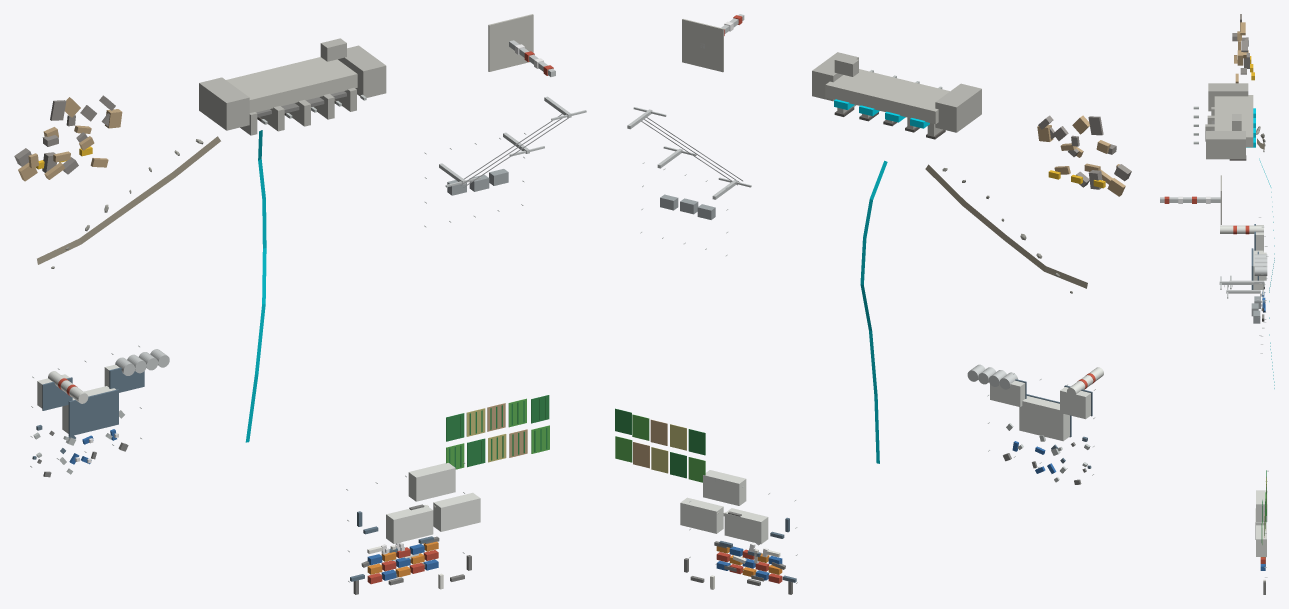
File: compact_zones.glb
3 views of the same model, side by side, from view 1: azimuth 30°, elevation 25°; view 2: azimuth 150°, elevation 25°; view 3: azimuth 270°, elevation 25° (orthographic). The views are drawn at different scales.
Visible parts, largest first — view 1: SM_Dam_Main_Wall, POLISH_DAM_SideSupport_L, SM_TEL_Platform, SM_IND_Roof_0, POLISH_DAM_SideSupport_R, Ref_Landslide_Path, SM_LOG_Warehouse_1, SM_LOG_Warehouse_2, SM_LOG_Warehouse_0, Ref_Dam_Discharge_Centerline; view 2: SM_Dam_Main_Wall, SM_TEL_Platform, SM_IND_Building_0, POLISH_DAM_SideSupport_L, SM_LOG_Warehouse_1, SM_LOG_Warehouse_0, SM_LOG_Warehouse_2, Ref_Dam_Discharge_Centerline, Ref_Landslide_Path, POLISH_DAM_SideSupport_R, SM_IND_Building_1, SM_IND_Building_2; view 3: SM_Dam_Main_Wall, POLISH_DAM_SideSupport_R, POLISH_DAM_SideSupport_L, SM_LOG_Warehouse_1, SM_LOG_Warehouse_2, SM_IND_Chimney, SM_TEL_Tower_Mast, SM_IND_Building_0.
Part boxes in pixels (x1=…): SM_Dam_Main_Wall: x1=226, y1=57, x2=357, y2=112; POLISH_DAM_SideSupport_L: x1=199, y1=77, x2=249, y2=130; SM_TEL_Platform: x1=488, y1=14, x2=533, y2=71; SM_IND_Roof_0: x1=68, y1=389, x2=118, y2=436; POLISH_DAM_SideSupport_R: x1=338, y1=45, x2=386, y2=97; Ref_Landslide_Path: x1=37, y1=136, x2=220, y2=264; SM_LOG_Warehouse_1: x1=433, y1=492, x2=480, y2=531; SM_LOG_Warehouse_2: x1=408, y1=463, x2=455, y2=501; SM_LOG_Warehouse_0: x1=386, y1=505, x2=433, y2=543; Ref_Dam_Discharge_Centerline: x1=245, y1=130, x2=266, y2=442; SM_Dam_Main_Wall: x1=825, y1=69, x2=949, y2=124; SM_TEL_Platform: x1=682, y1=19, x2=723, y2=72; SM_IND_Building_0: x1=1019, y1=396, x2=1069, y2=441; POLISH_DAM_SideSupport_L: x1=935, y1=83, x2=981, y2=132; SM_LOG_Warehouse_1: x1=680, y1=497, x2=723, y2=533; SM_LOG_Warehouse_0: x1=724, y1=508, x2=768, y2=544; SM_LOG_Warehouse_2: x1=703, y1=470, x2=746, y2=505; Ref_Dam_Discharge_Centerline: x1=860, y1=160, x2=887, y2=463; Ref_Landslide_Path: x1=925, y1=164, x2=1087, y2=288; POLISH_DAM_SideSupport_R: x1=812, y1=52, x2=858, y2=101; SM_IND_Building_1: x1=1060, y1=387, x2=1090, y2=419; SM_IND_Building_2: x1=990, y1=380, x2=1025, y2=406; SM_Dam_Main_Wall: x1=1214, y1=95, x2=1253, y2=147; POLISH_DAM_SideSupport_R: x1=1206, y1=131, x2=1245, y2=159; POLISH_DAM_SideSupport_L: x1=1208, y1=83, x2=1248, y2=111; SM_LOG_Warehouse_1: x1=1256, y1=525, x2=1266, y2=556; SM_LOG_Warehouse_2: x1=1256, y1=490, x2=1267, y2=521; SM_IND_Chimney: x1=1220, y1=225, x2=1263, y2=233; SM_TEL_Tower_Mast: x1=1160, y1=197, x2=1220, y2=202; SM_IND_Building_0: x1=1253, y1=249, x2=1263, y2=289.
Size of the model in its own units: 672 by 693 by 167.
